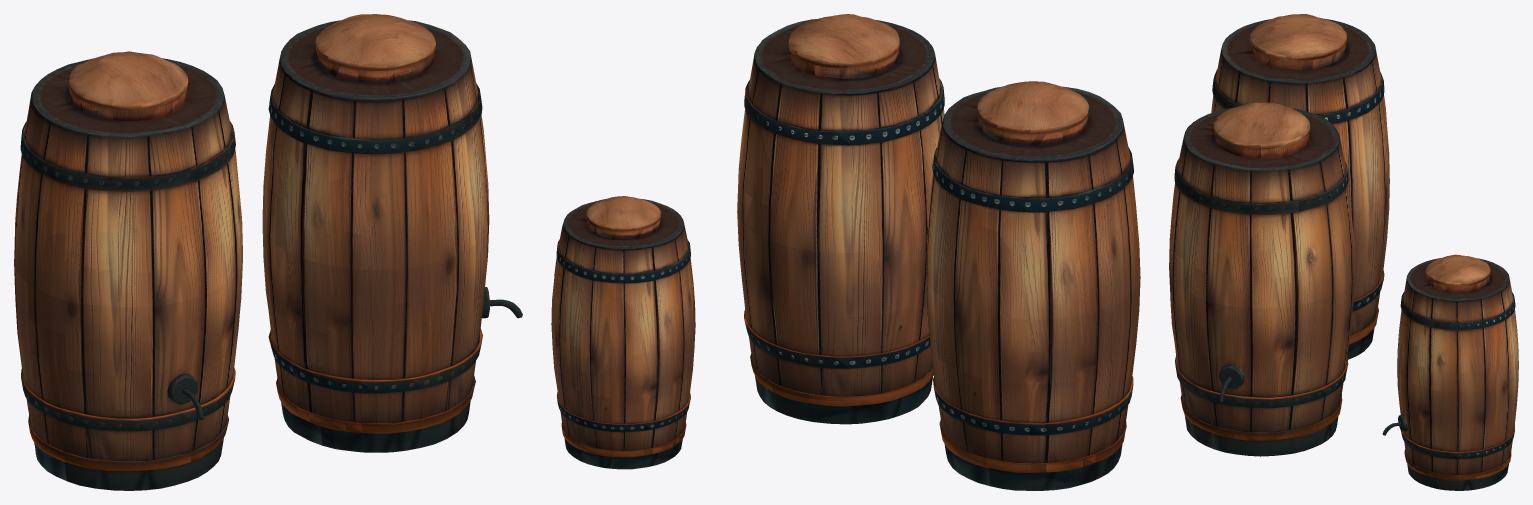
Rendered from barrel-cluster.glb.
3 renders of one model, left to right at view 1: azimuth 30°, elevation 25°; view 2: azimuth 150°, elevation 25°; view 3: azimuth 270°, elevation 25°, orthographic. The views are drawn at different scales.
Bounding box in the file's own units: 1.22 × 0.9 × 0.9108.
Materials: 1 (1 with a texture image).
